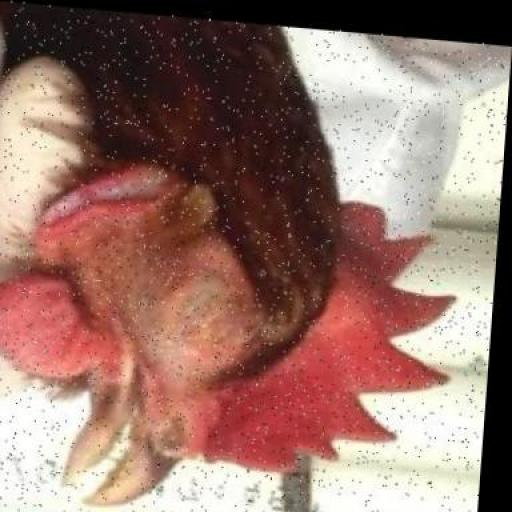disease: (176, 199, 299, 297), (149, 207, 176, 267)
